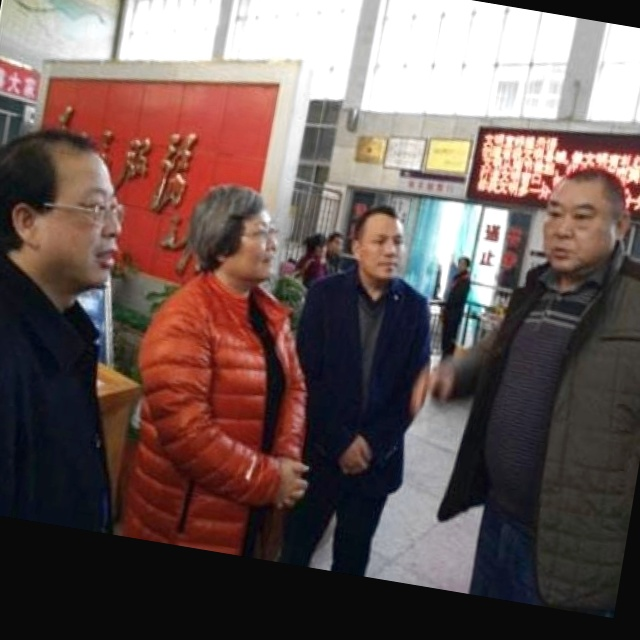Sin_Casco_Mascarrilla: (0, 119, 134, 284), (530, 154, 637, 266), (184, 175, 287, 284), (341, 198, 426, 285)
